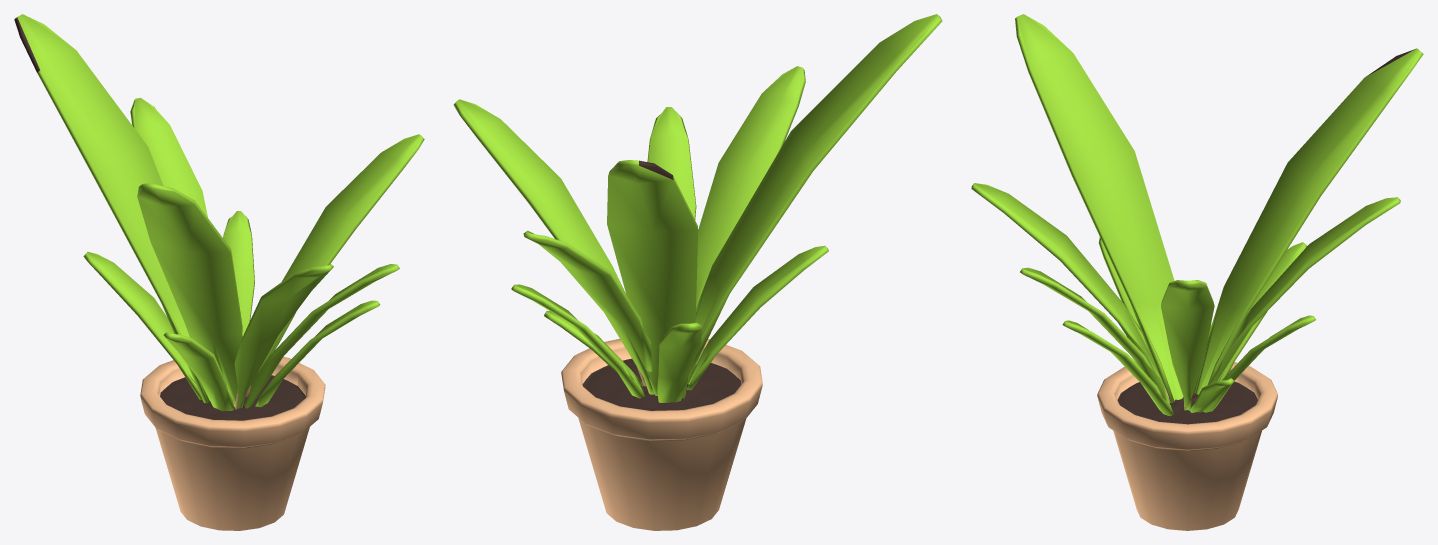
Rendered from plantelowpoly.fbx.
The picture shows the model from 3 angles, left to right: view 1: azimuth 30°, elevation 25°; view 2: azimuth 150°, elevation 25°; view 3: azimuth 270°, elevation 25°; orthographic projection. The views are drawn at different scales.
Visible parts, largest first — view 1: Cylinder; view 2: Cylinder; view 3: Cylinder.
Part boxes in pixels (x1,y1,x2,y2): Cylinder: [14, 14, 424, 530]; Cylinder: [453, 14, 942, 530]; Cylinder: [971, 14, 1423, 530].
Bounding box in the file's own units: 778 × 881 × 869.
